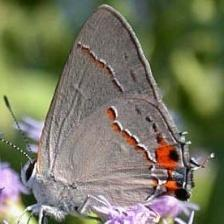butterfly: (22, 5, 195, 213)
